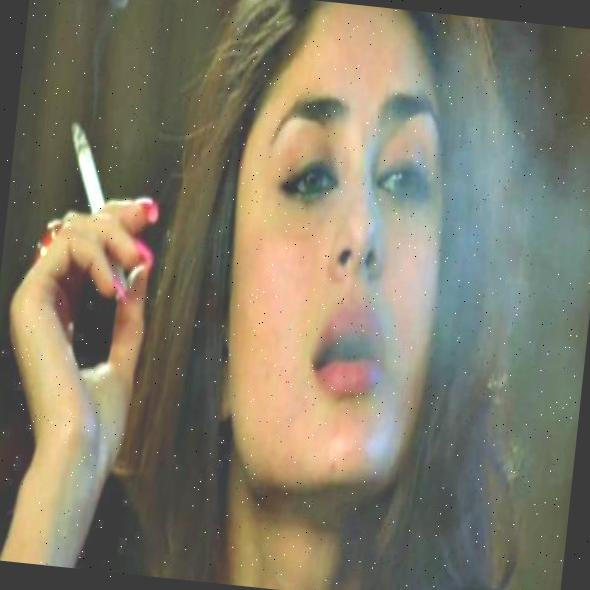smoke: (409, 14, 590, 344)
